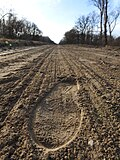human_footprint: (34, 74, 86, 144)
